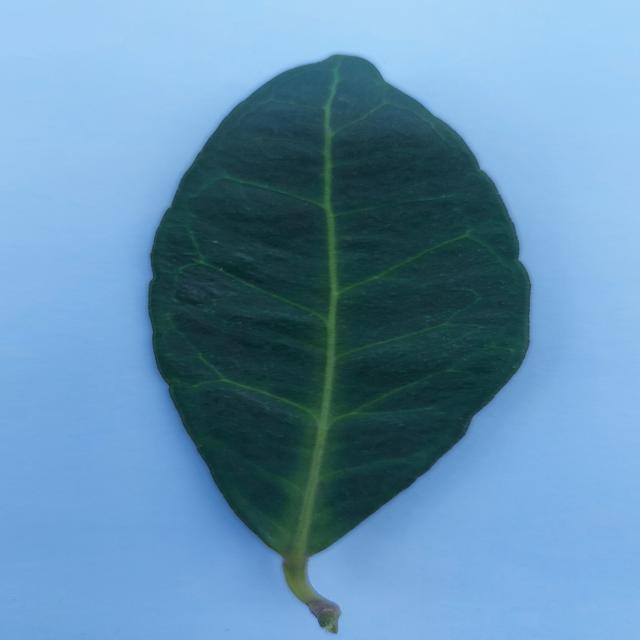greening: (149, 56, 529, 618)
